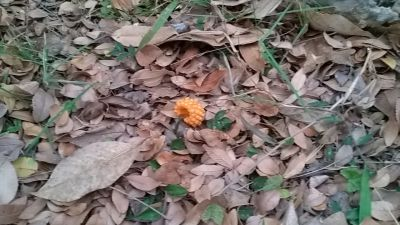eggs: (175, 97, 205, 124)
